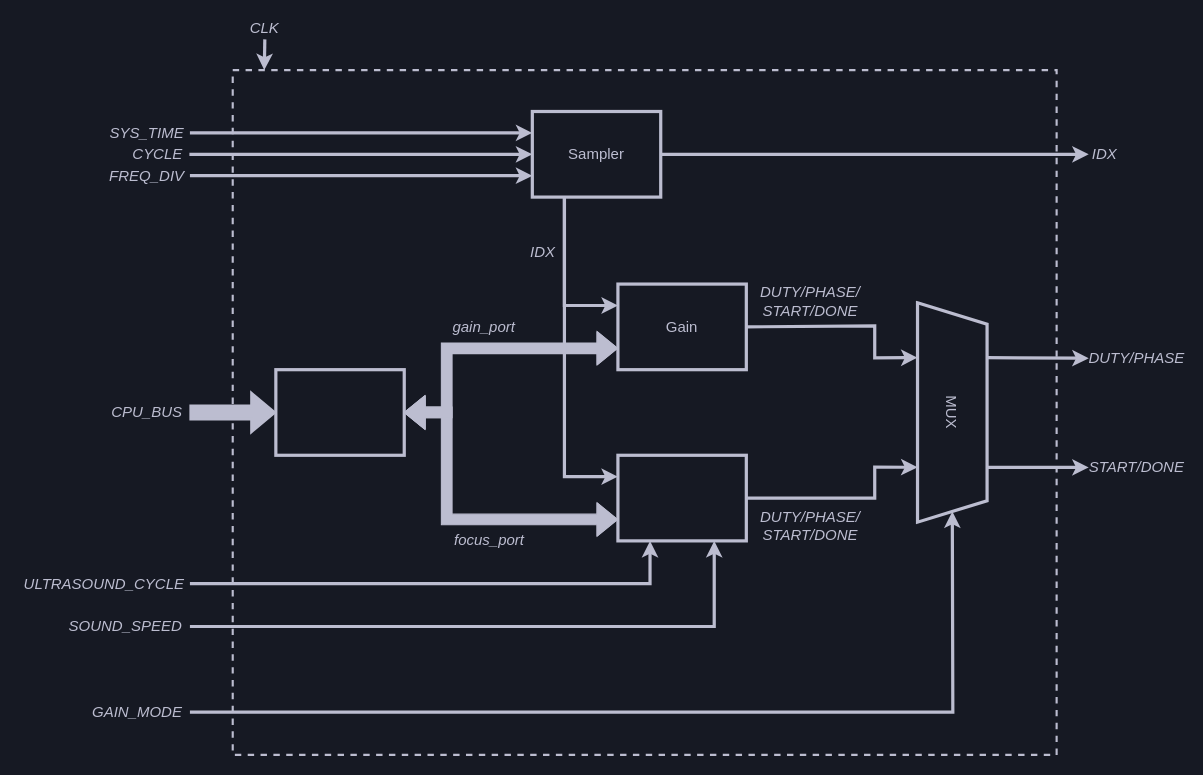
This 1203x775 diagram has some shape labels left out. Each missing label, with the centre of its shape:
"Focus" goes at pixel 681 497.
"Memory" goes at pixel 339 412.
